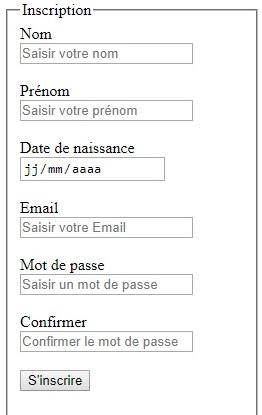button: (19, 368, 91, 391)
field: (18, 99, 194, 123), (19, 216, 194, 240), (18, 330, 193, 353), (18, 42, 194, 64), (19, 273, 194, 295), (18, 156, 166, 182)
field_with_label: (16, 84, 195, 125), (16, 314, 195, 355), (16, 26, 195, 66), (17, 201, 195, 241), (17, 257, 195, 297), (16, 141, 168, 184)
